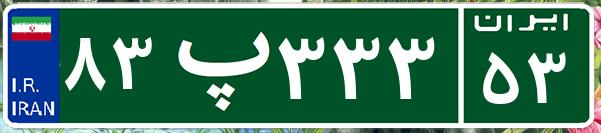3: (385, 28, 445, 110), (273, 28, 330, 110), (330, 28, 385, 110), (110, 28, 158, 105), (525, 38, 570, 115)
5: (475, 38, 525, 113)
8: (57, 26, 110, 107)
پ: (158, 15, 273, 115)
